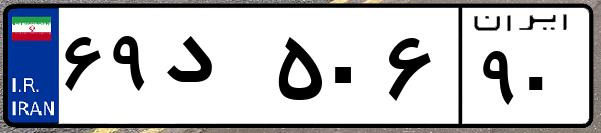0: (330, 28, 385, 110), (525, 38, 570, 115)
5: (270, 28, 330, 110)
6: (385, 28, 445, 110), (57, 26, 110, 100)
9: (475, 38, 525, 113), (110, 28, 158, 98)
د: (158, 20, 270, 120)
